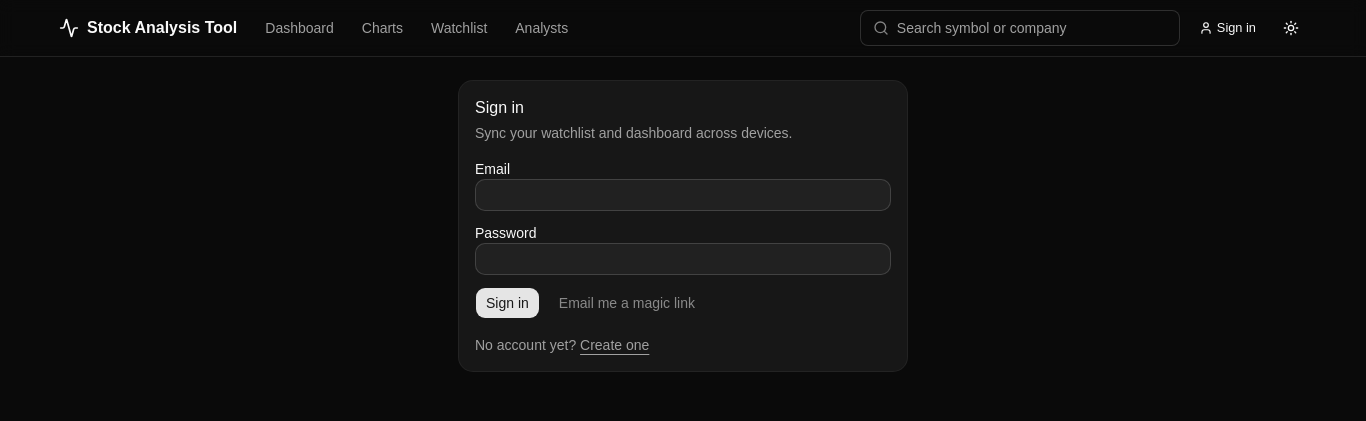
auth flow › shows the error for a wrong password
Type "a@example.com" into the field labelled "Email" at (683, 195), box [475,179,891,211]
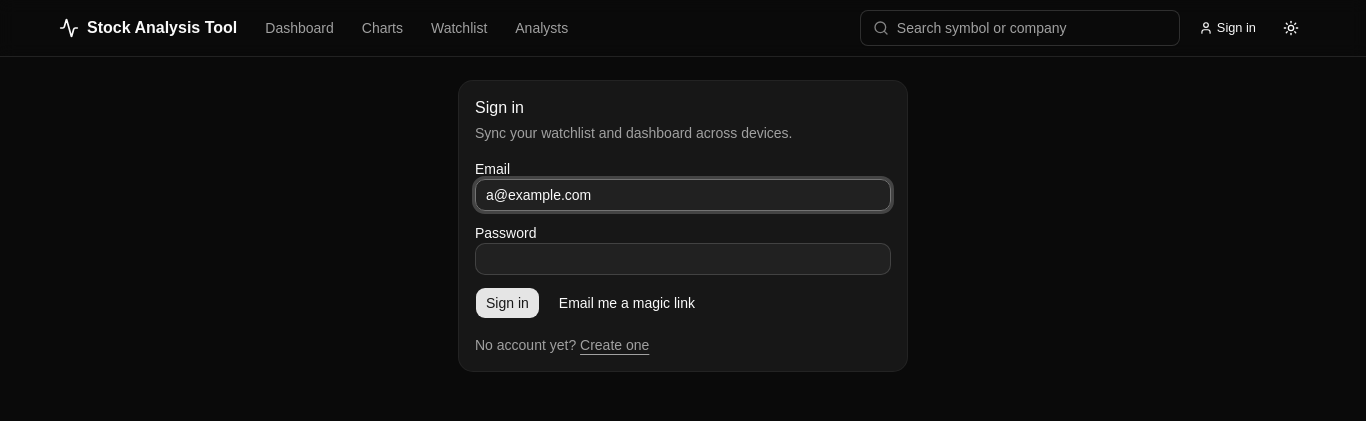
Type "wrongwrong" into the password field labelled "Password" at (683, 259), box [475,243,891,275]
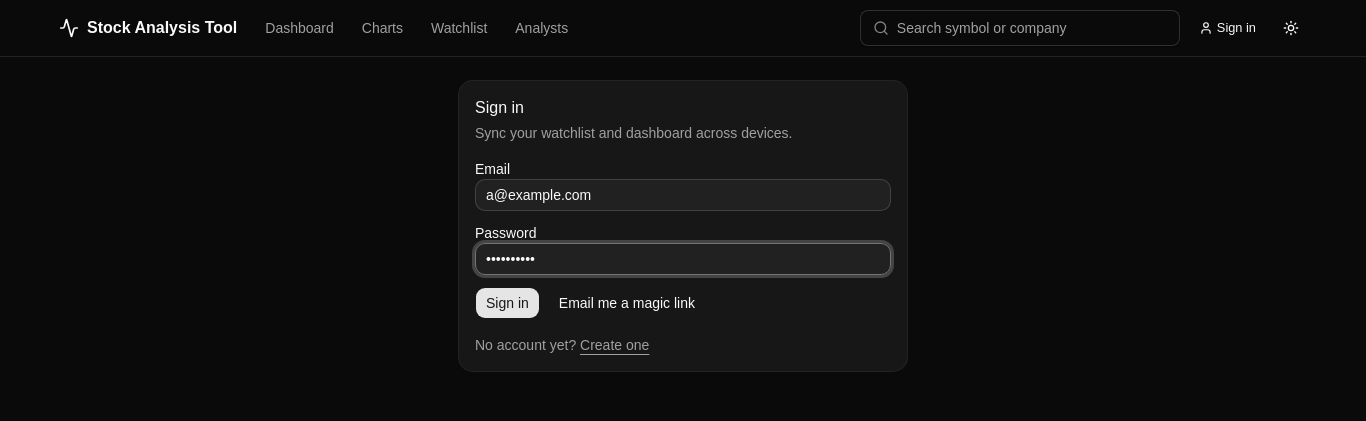
Click the button "Sign in" at (507, 303), box [475,287,540,319]
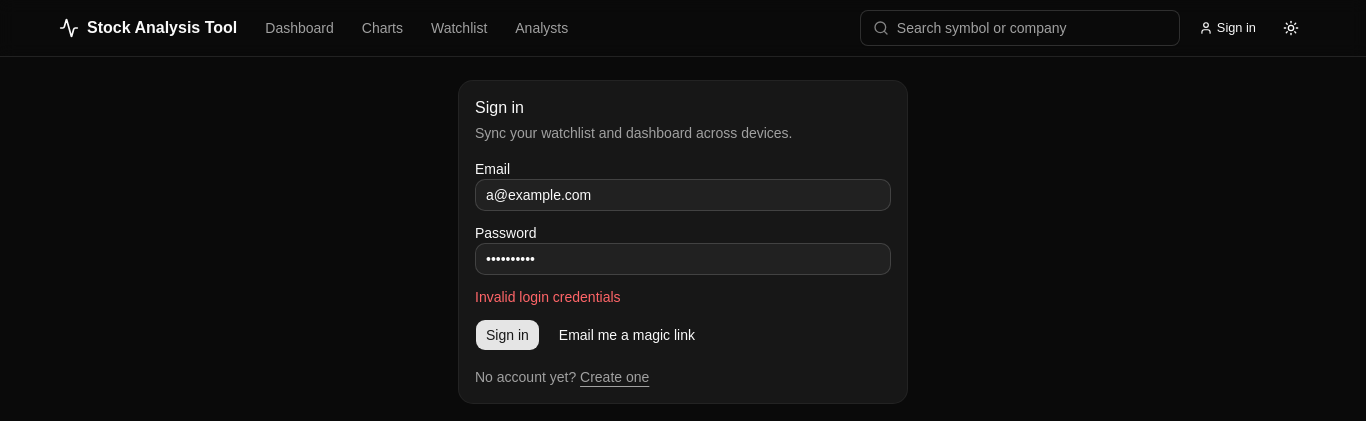
Now the message reads "Invalid login credentials", box [475,289,620,305]
